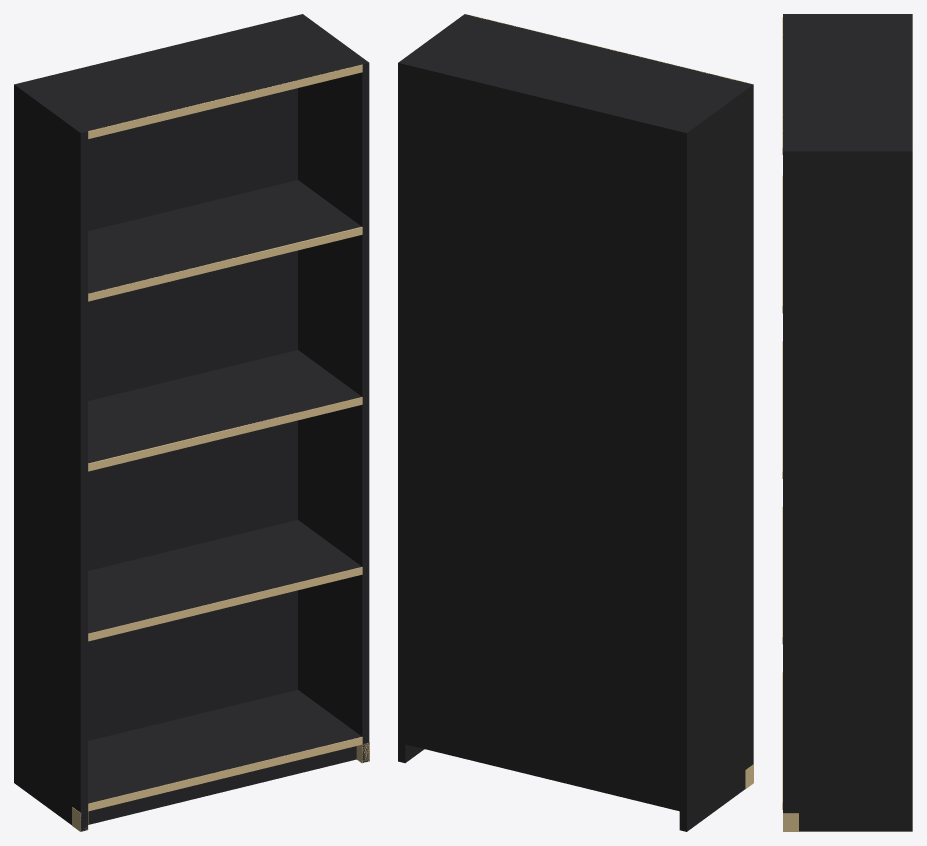
The model's file is obj-bookcase-black-brass.glb.
3 views of the same model, side by side, from view 1: azimuth 30°, elevation 25°; view 2: azimuth 150°, elevation 25°; view 3: azimuth 270°, elevation 25° (orthographic). The views are drawn at different scales.
Visible parts, largest first — view 1: obj-bookcase-black-brass; view 2: obj-bookcase-black-brass; view 3: obj-bookcase-black-brass.
Part boxes in pixels (left/top/right/bottom): obj-bookcase-black-brass: left=14, top=14, right=369, bottom=831; obj-bookcase-black-brass: left=398, top=14, right=753, bottom=831; obj-bookcase-black-brass: left=782, top=14, right=912, bottom=831.
Size of the model in its own units: 0.802 by 1.85 by 0.3214.
